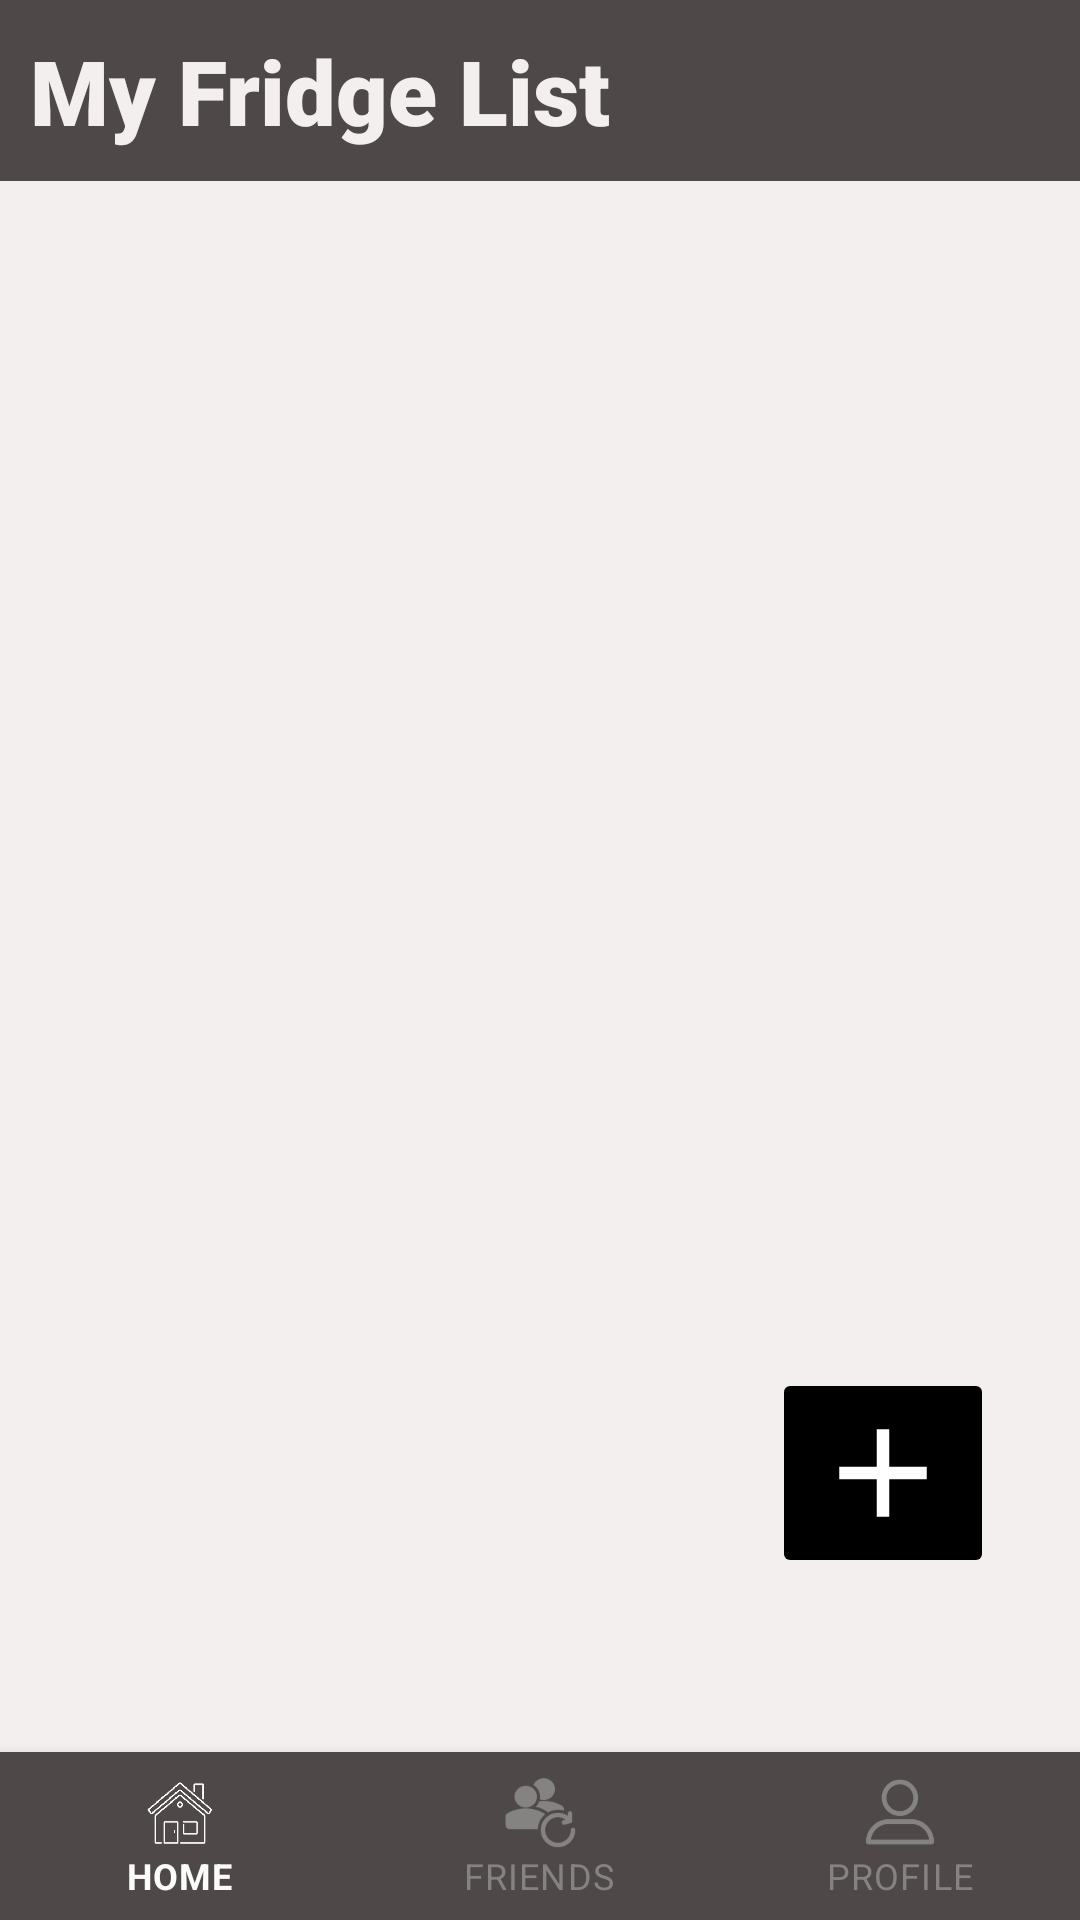

Screen size 1080*1920. Icon name, then its center in pixels as [x,y]:
add: [883,1473]
